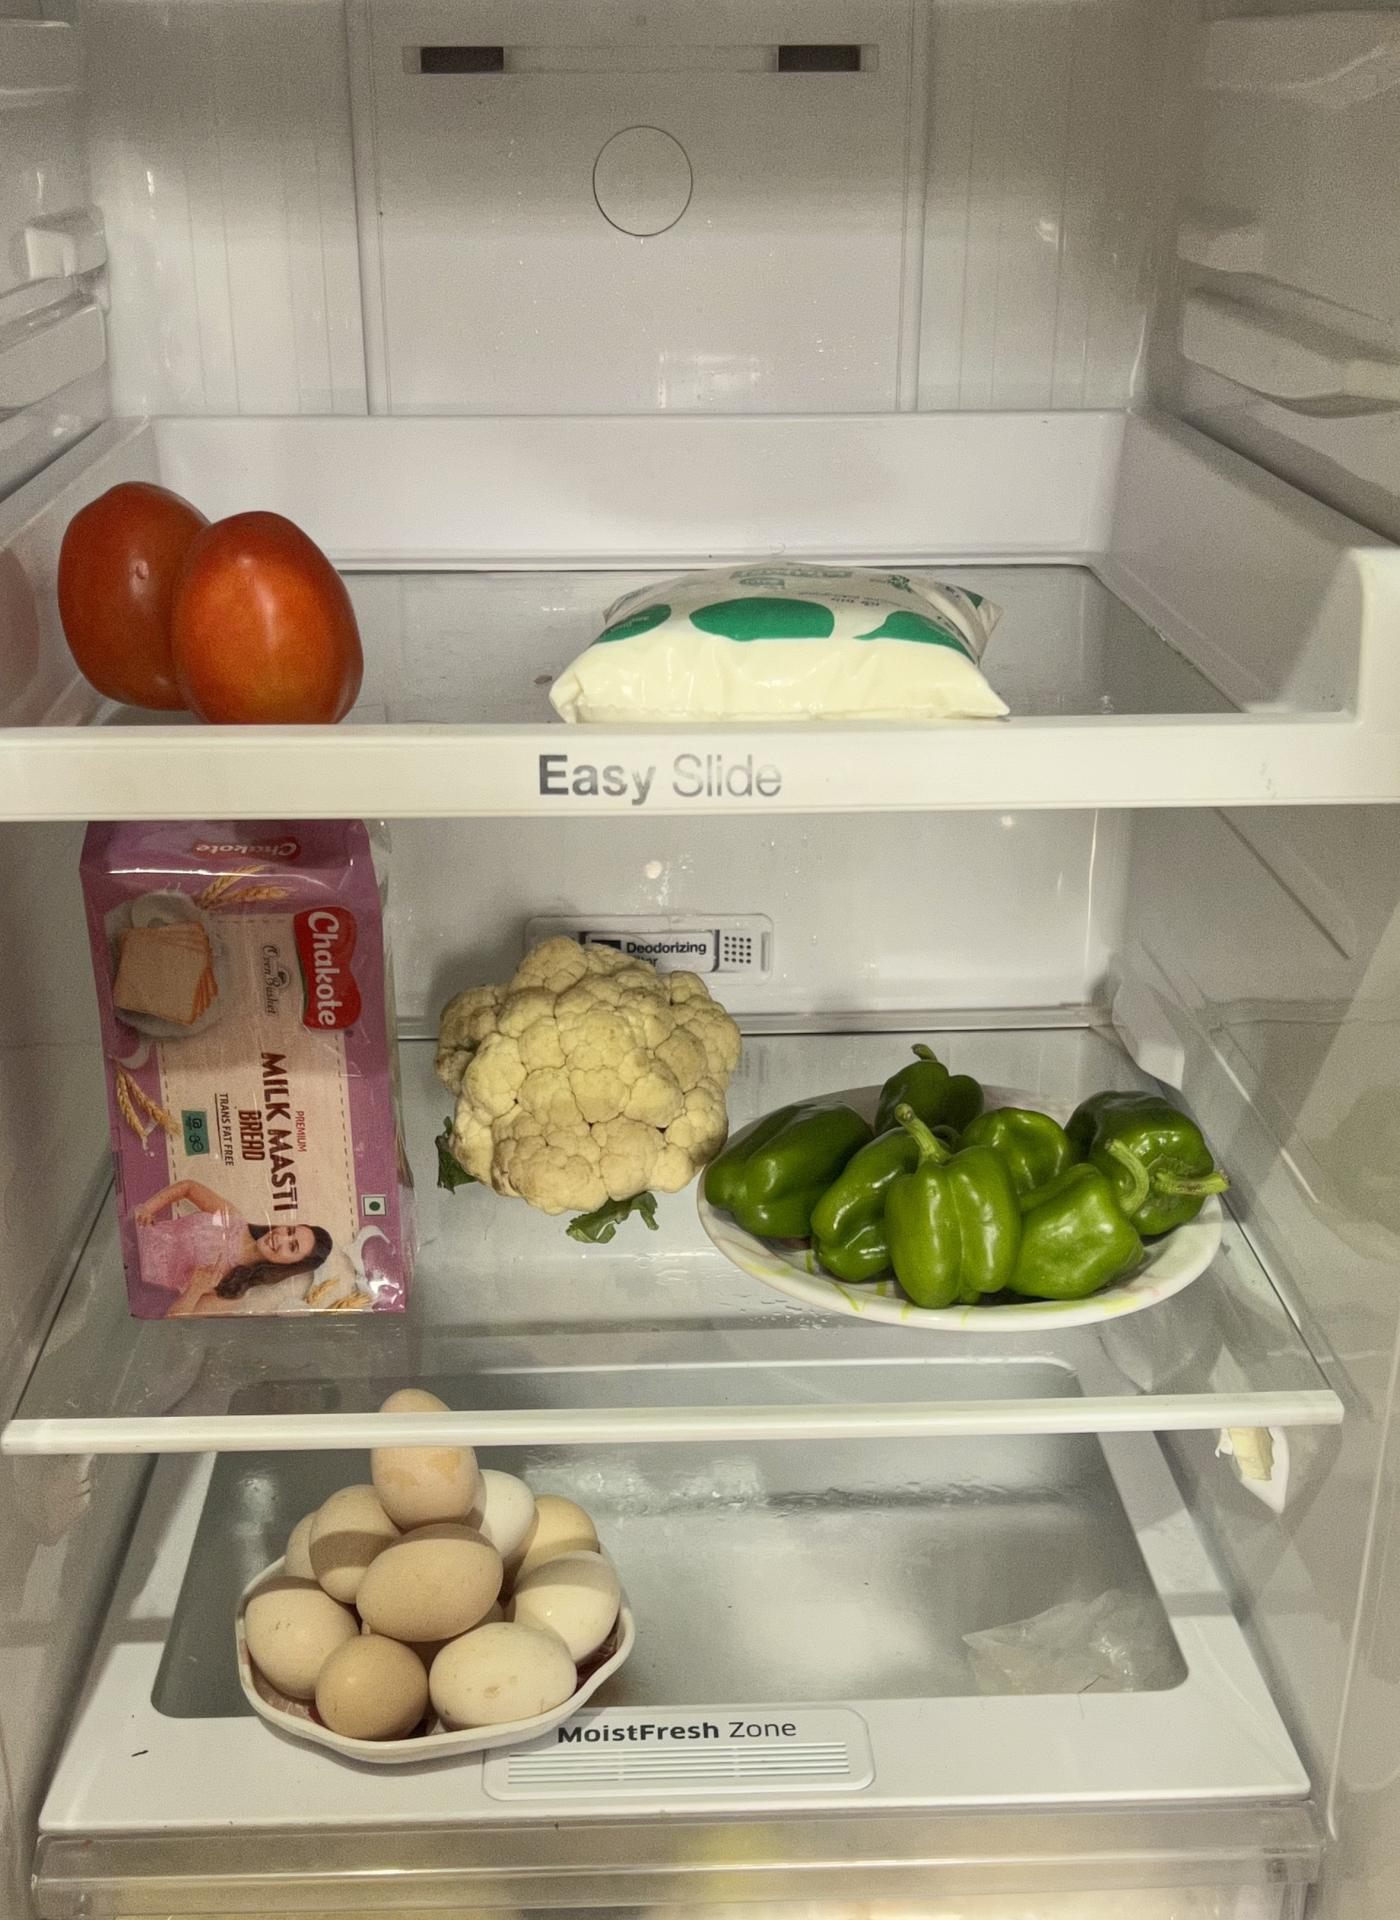bread: (81, 818, 409, 1310)
capsicum: (723, 1057, 1217, 1307)
cauliflower: (432, 936, 716, 1206)
egg: (236, 1447, 620, 1737)
milk: (547, 559, 1002, 719)
tomato: (64, 483, 361, 719)
